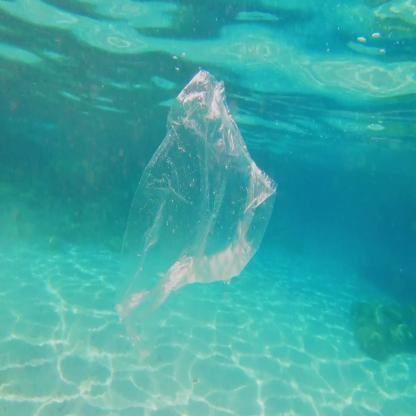Rác: (93, 37, 321, 341)
